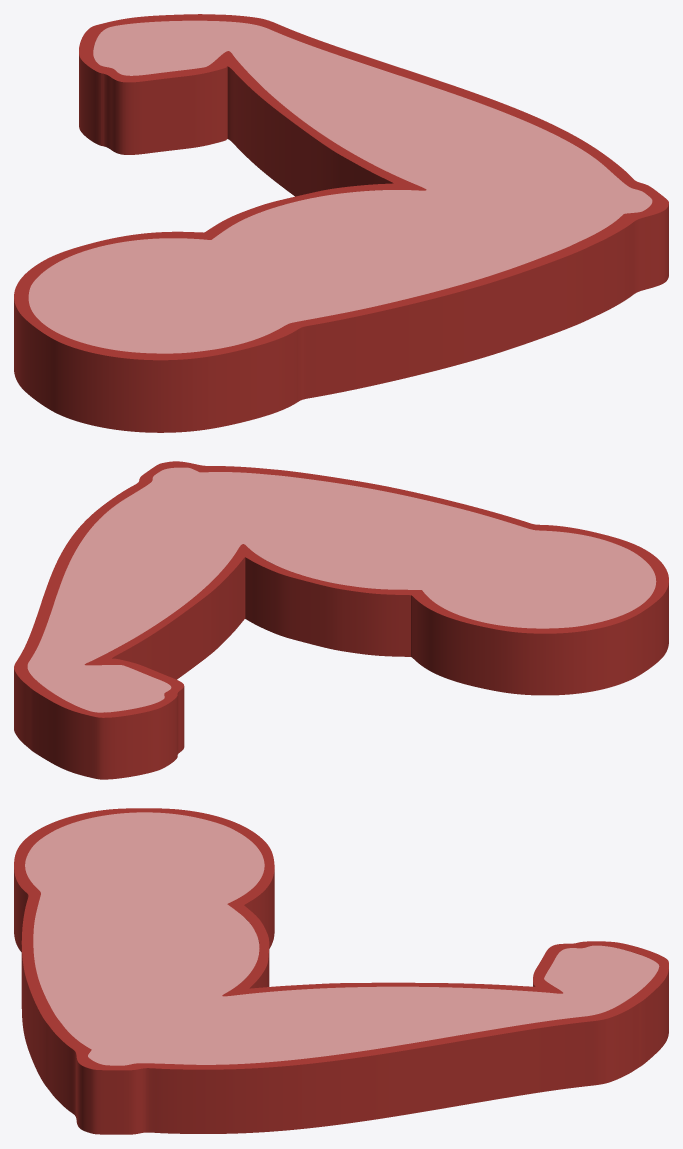
File: Boost_3.fbx
The picture shows the model from 3 angles, top to bottom: view 1: azimuth 30°, elevation 25°; view 2: azimuth 150°, elevation 25°; view 3: azimuth 270°, elevation 25°; orthographic projection. The views are drawn at different scales.
Parts seen in each view (by area): view 1: imagetostl_mesh1, imagetostl_mesh2, imagetostl_mesh3; view 2: imagetostl_mesh1, imagetostl_mesh2, imagetostl_mesh3; view 3: imagetostl_mesh1, imagetostl_mesh2, imagetostl_mesh3.
Boxes of the visible parts, <box> form: imagetostl_mesh1: <box>28,20,652,353</box>; imagetostl_mesh2: <box>14,44,668,432</box>; imagetostl_mesh3: <box>14,14,668,360</box>; imagetostl_mesh1: <box>27,467,656,712</box>; imagetostl_mesh2: <box>14,557,668,779</box>; imagetostl_mesh3: <box>14,461,668,717</box>; imagetostl_mesh1: <box>25,812,659,1065</box>; imagetostl_mesh2: <box>14,869,668,1134</box>; imagetostl_mesh3: <box>14,808,668,1070</box>.
Size of the model in its own units: 8731 by 1000 by 9219.
